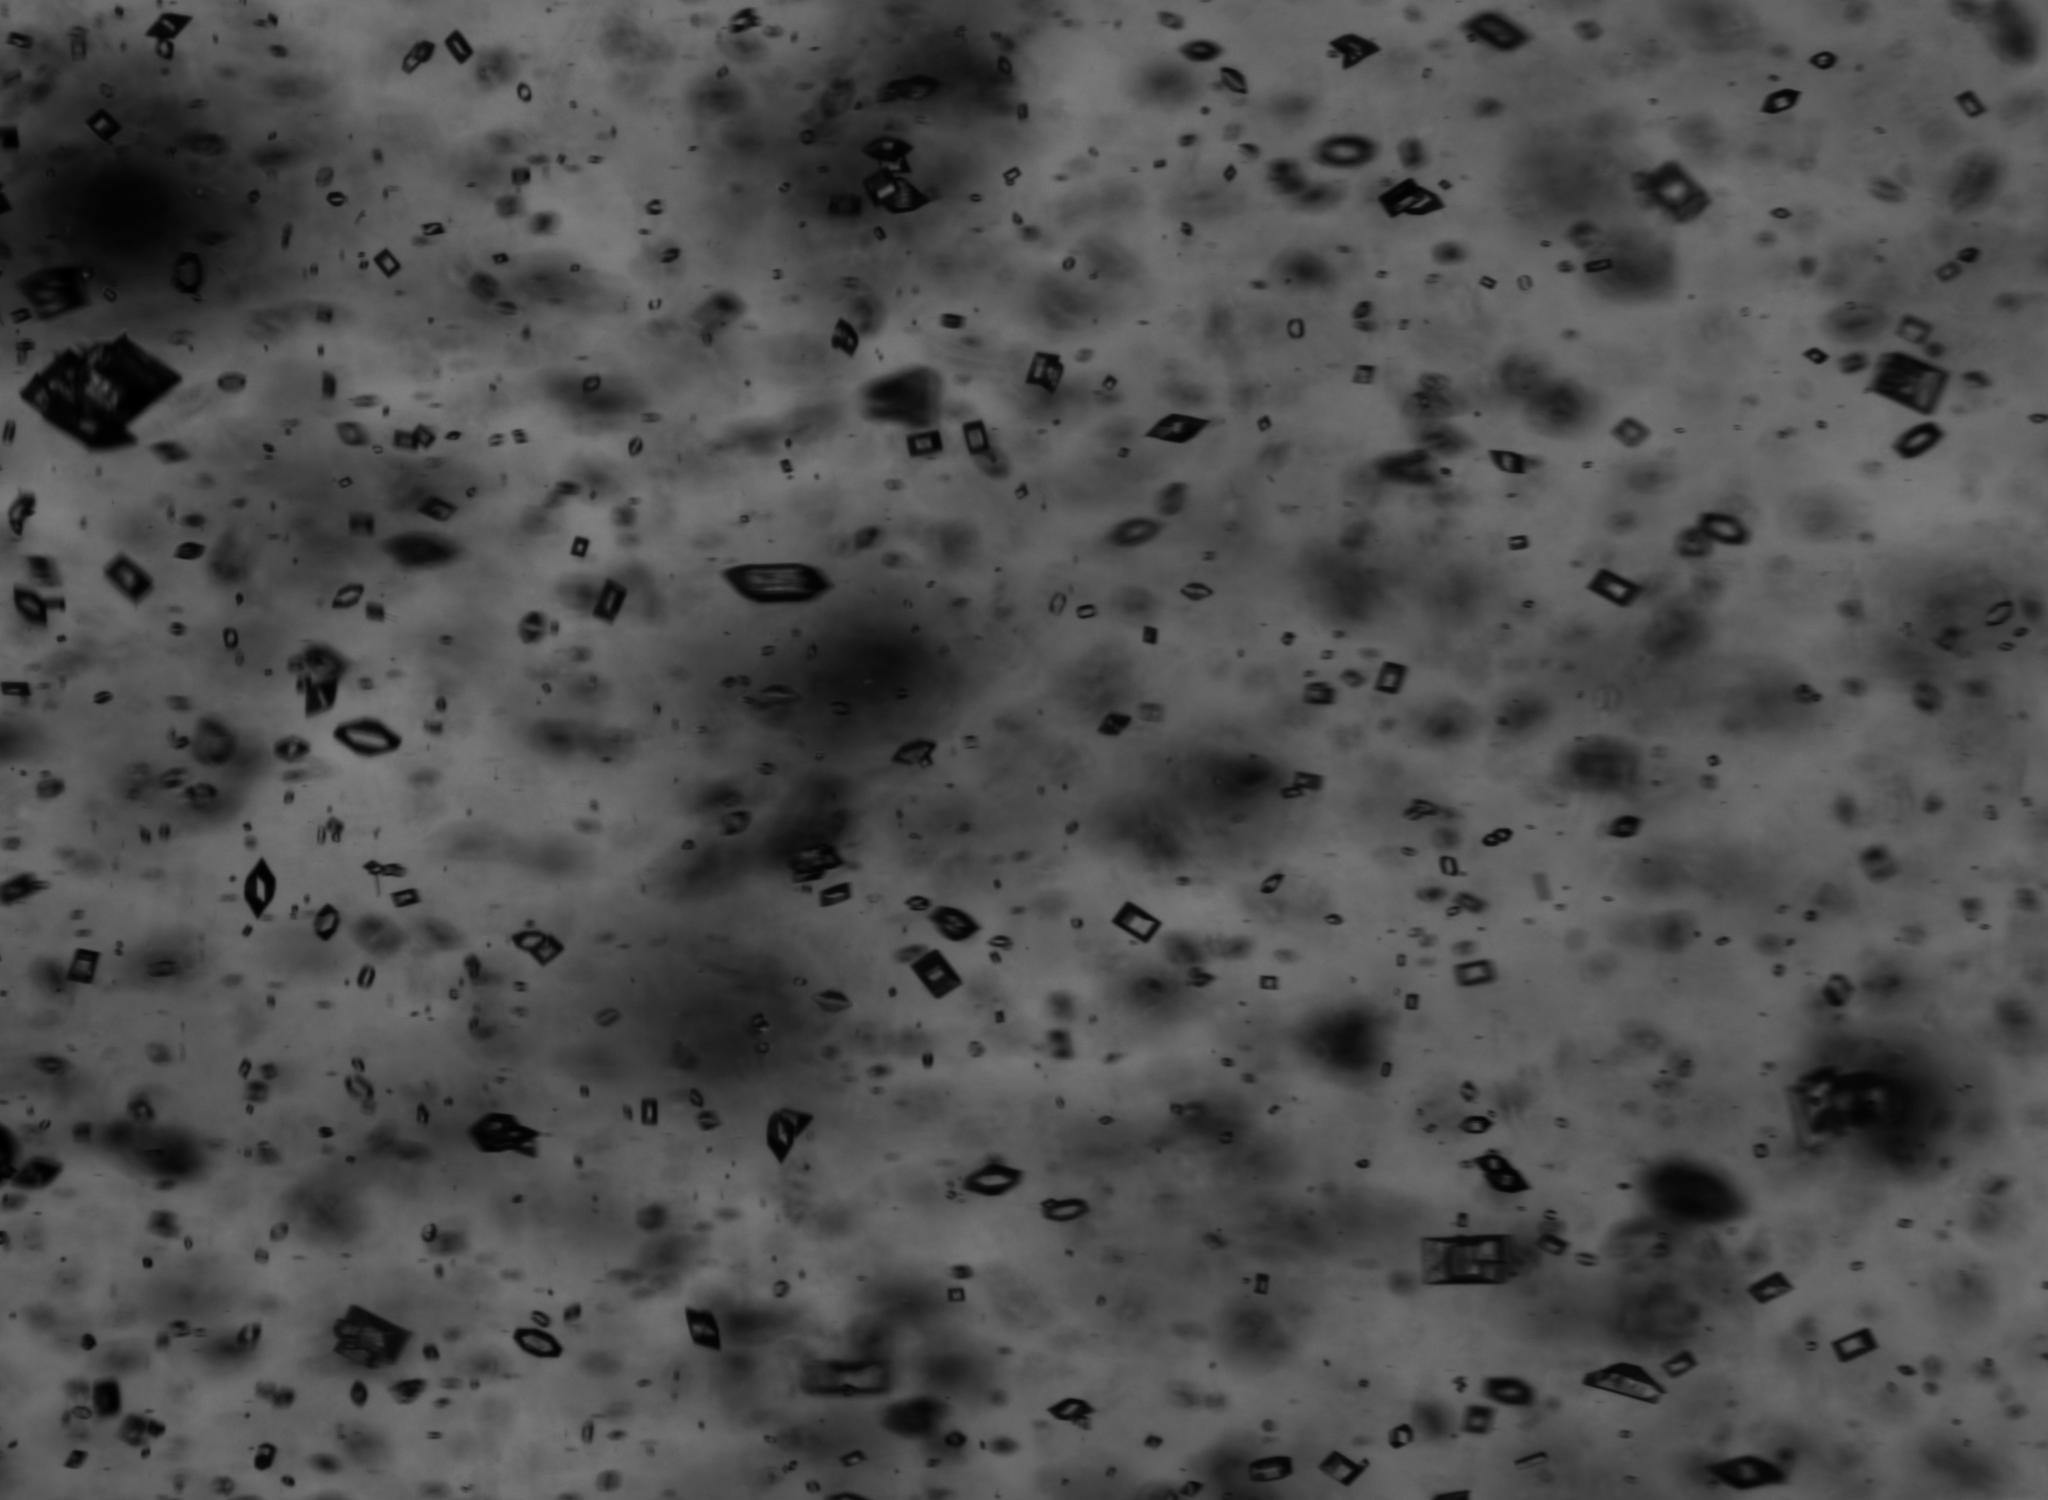crystal: (21, 336, 181, 452), (1870, 353, 1949, 415), (334, 1308, 410, 1370), (723, 563, 830, 604), (1422, 1234, 1507, 1285), (1643, 165, 1709, 221), (1584, 1363, 1665, 1403), (469, 1113, 539, 1158), (1706, 1454, 1786, 1490), (332, 719, 401, 759), (1377, 178, 1444, 218), (785, 843, 846, 886), (910, 950, 962, 999), (765, 1109, 813, 1163), (1468, 11, 1526, 49), (962, 1161, 1022, 1198), (510, 926, 564, 966), (105, 557, 151, 603), (1587, 568, 1643, 606), (1829, 1325, 1879, 1366), (1477, 1152, 1528, 1193), (873, 178, 930, 215), (146, 13, 191, 59), (1111, 902, 1161, 943), (243, 859, 277, 918), (1328, 33, 1380, 70), (1146, 414, 1207, 444), (929, 907, 979, 942), (1894, 423, 1941, 460), (1744, 1271, 1795, 1304), (1026, 352, 1064, 394), (512, 1327, 563, 1358), (1318, 1451, 1364, 1486), (593, 579, 626, 624), (685, 1309, 720, 1350), (1046, 1398, 1094, 1428), (889, 76, 941, 103), (862, 167, 898, 205), (892, 740, 938, 770), (172, 253, 204, 296), (305, 678, 339, 717), (1452, 959, 1496, 988), (1703, 514, 1744, 544), (415, 495, 458, 523), (8, 495, 37, 538), (65, 950, 100, 985), (1041, 1198, 1089, 1223), (862, 138, 916, 161), (86, 110, 121, 143), (13, 590, 45, 627), (830, 318, 860, 356), (962, 420, 992, 458), (1662, 1349, 1700, 1379), (1894, 315, 1930, 345), (342, 1074, 375, 1106), (402, 41, 436, 73), (1374, 663, 1407, 695), (1250, 1457, 1291, 1483), (906, 429, 943, 458), (1821, 975, 1852, 1007), (313, 905, 340, 942), (813, 989, 852, 1013), (1762, 89, 1802, 113), (876, 148, 913, 173), (758, 682, 803, 703), (1488, 450, 1526, 474), (1956, 91, 1988, 119), (445, 30, 472, 64), (372, 248, 401, 278), (1096, 714, 1134, 736), (1220, 67, 1248, 95), (825, 192, 862, 215), (332, 584, 364, 609), (1984, 600, 2015, 625), (819, 883, 851, 907), (253, 1441, 277, 1473), (723, 810, 751, 837), (730, 10, 758, 35), (364, 861, 405, 878), (1609, 816, 1641, 838), (1536, 1233, 1568, 1255), (1406, 800, 1437, 822), (1480, 827, 1514, 848), (1388, 1424, 1415, 1449), (1466, 1406, 1491, 1433), (1293, 768, 1323, 791), (1514, 1451, 1547, 1470), (1180, 582, 1213, 601), (1460, 1115, 1493, 1134), (337, 423, 366, 444), (1304, 686, 1334, 705), (173, 542, 205, 560), (1186, 41, 1218, 59), (639, 1098, 658, 1126), (391, 889, 420, 908), (218, 372, 246, 391), (356, 964, 377, 989), (1352, 364, 1377, 385), (695, 1110, 720, 1131), (350, 1381, 369, 1408), (1934, 262, 1961, 282), (6, 30, 33, 49), (1809, 52, 1838, 70), (412, 425, 434, 447), (1259, 873, 1283, 894), (235, 1323, 259, 1344), (749, 1013, 770, 1037), (1048, 592, 1069, 616), (1803, 347, 1829, 366), (1158, 11, 1183, 30), (1437, 856, 1460, 876), (0, 682, 32, 697), (1002, 165, 1022, 186), (569, 536, 588, 558), (1286, 318, 1305, 340), (394, 431, 417, 450), (10, 307, 33, 324), (68, 1405, 94, 1420), (838, 1452, 863, 1468), (903, 896, 929, 911), (269, 1222, 289, 1241), (515, 81, 533, 103), (1507, 534, 1530, 552), (65, 1451, 87, 1468), (1584, 259, 1612, 272), (421, 221, 444, 237), (1255, 1273, 1270, 1295), (626, 437, 642, 458), (1076, 604, 1097, 620), (421, 1223, 437, 1244), (1282, 786, 1304, 800), (1180, 1483, 1202, 1497), (1142, 627, 1159, 644), (326, 191, 345, 207), (943, 313, 964, 328), (1770, 207, 1792, 220), (987, 935, 1013, 946), (1515, 275, 1533, 291), (1100, 375, 1118, 391), (1256, 415, 1272, 433), (1261, 975, 1278, 991), (326, 819, 343, 835), (237, 1059, 251, 1078), (529, 1312, 549, 1327), (1143, 1435, 1162, 1449), (224, 628, 237, 649), (1754, 1144, 1770, 1160), (1404, 994, 1420, 1010), (1223, 164, 1237, 181), (690, 1088, 703, 1107), (582, 1422, 593, 1443), (316, 824, 328, 845), (1323, 915, 1344, 926), (805, 1479, 820, 1494), (949, 1288, 965, 1303), (584, 377, 599, 391), (647, 199, 661, 215), (102, 286, 118, 301), (800, 129, 814, 145), (1479, 277, 1496, 290), (871, 224, 884, 242), (999, 57, 1011, 75), (1280, 631, 1294, 646), (423, 1346, 439, 1358), (946, 1433, 962, 1446), (1577, 1253, 1593, 1266), (1456, 1212, 1469, 1228), (491, 253, 509, 264), (514, 170, 531, 181), (1014, 487, 1029, 499), (781, 458, 793, 472), (337, 477, 353, 488), (1018, 103, 1029, 119), (833, 703, 849, 714), (806, 644, 816, 662), (514, 431, 528, 442), (1706, 756, 1720, 767), (1118, 447, 1131, 458), (1396, 954, 1407, 967), (1447, 905, 1460, 916), (778, 181, 790, 192), (682, 840, 695, 851), (1897, 1218, 1911, 1228), (1544, 1210, 1558, 1220), (1356, 1160, 1371, 1169), (763, 646, 774, 657), (447, 431, 460, 441), (1383, 1064, 1391, 1078), (1806, 1343, 1817, 1352), (997, 1010, 1005, 1023), (143, 1258, 153, 1268), (557, 154, 564, 165), (1153, 161, 1166, 167), (1522, 601, 1533, 608)
